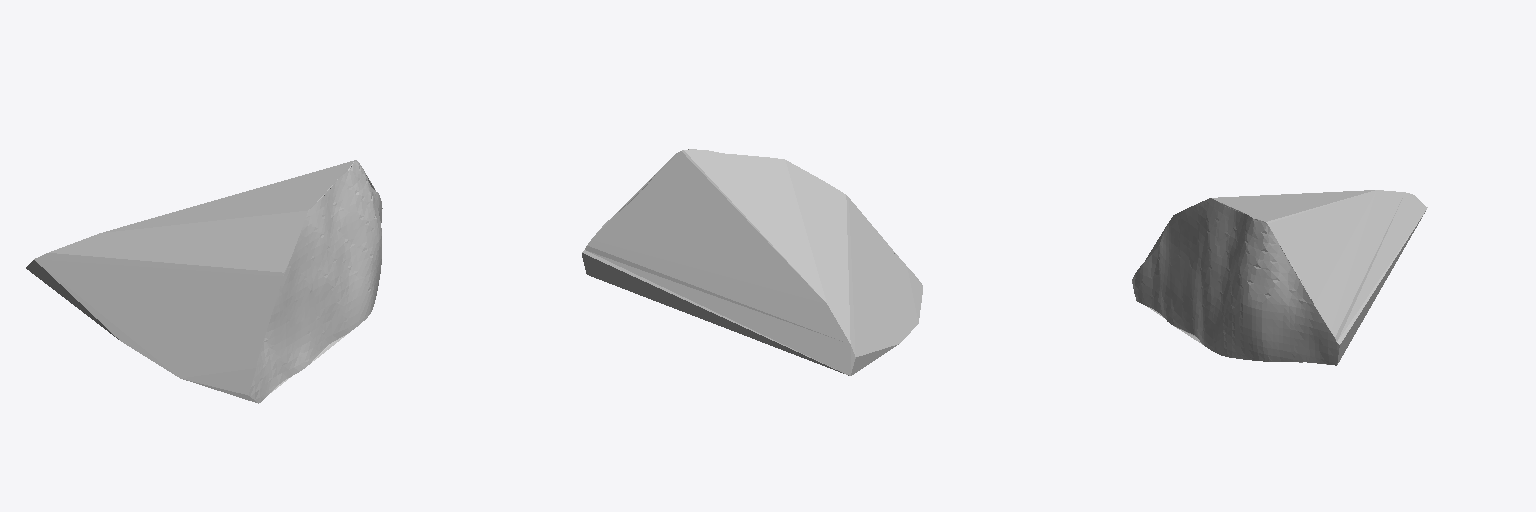
The model's file is low_cell_073.obj.
3 views of the same model, side by side, from view 1: azimuth 30°, elevation 25°; view 2: azimuth 150°, elevation 25°; view 3: azimuth 270°, elevation 25° (orthographic).
Visible parts, largest first — view 1: low_cell.073_low_cell.072; view 2: low_cell.073_low_cell.072; view 3: low_cell.073_low_cell.072.
Part boxes in pixels (x1,y1,x2,y2): low_cell.073_low_cell.072: (26,160,382,403); low_cell.073_low_cell.072: (582,149,922,375); low_cell.073_low_cell.072: (1132,190,1427,365).
Size of the model in its own units: 0.8869 by 0.4257 by 0.7255.